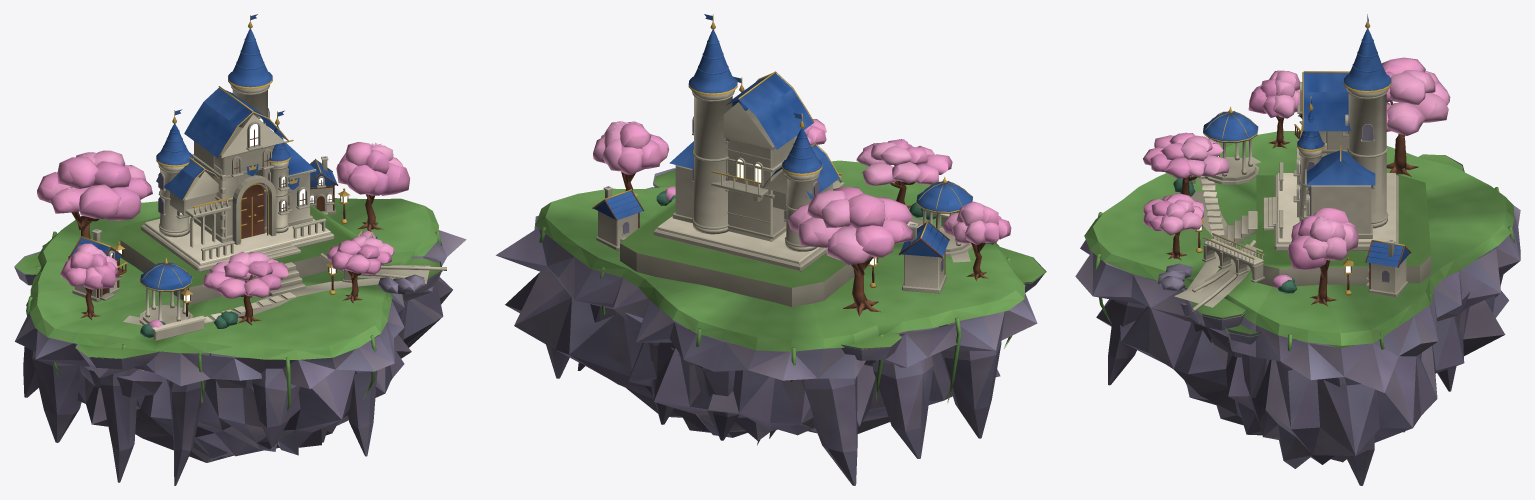
Rendered from royal-island-right-v4.glb.
3 views of the same model, side by side, from view 1: azimuth 30°, elevation 25°; view 2: azimuth 150°, elevation 25°; view 3: azimuth 270°, elevation 25° (orthographic). The views are drawn at different scales.
Parts seen in each view (by area): view 1: royal-island-right-v4; view 2: royal-island-right-v4; view 3: royal-island-right-v4.
Boxes of the visible parts, box(x1,y1,x2,y2) form: royal-island-right-v4: box(14, 14, 466, 485); royal-island-right-v4: box(496, 14, 1046, 485); royal-island-right-v4: box(1075, 14, 1520, 485).
Bounding box in the file's own units: 19.46 × 16.87 × 15.54.
Materials: 10 (10 with a texture image).
